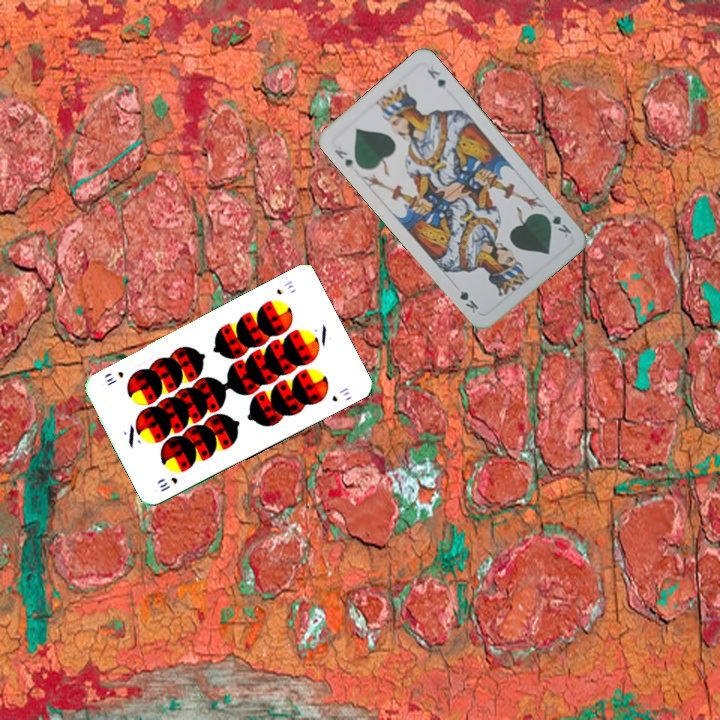GK: (540, 209, 574, 240), (330, 145, 357, 172)
S10: (155, 473, 180, 494), (272, 276, 296, 297)
